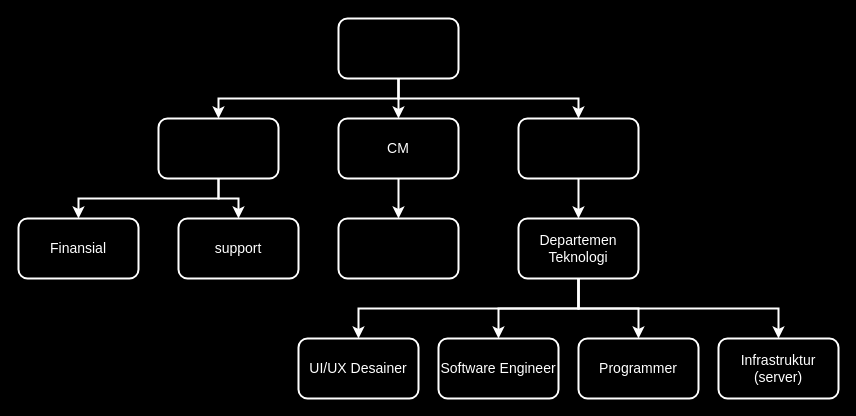
Image size: 856x416. Some labels were removed from this diagram. Each missing label, with the centre of its shape:
"Advertiser" goes at point 398,248.
"COO" goes at point 218,148.
"CTO" goes at point 578,148.
"Direktur" goes at point 398,48.
